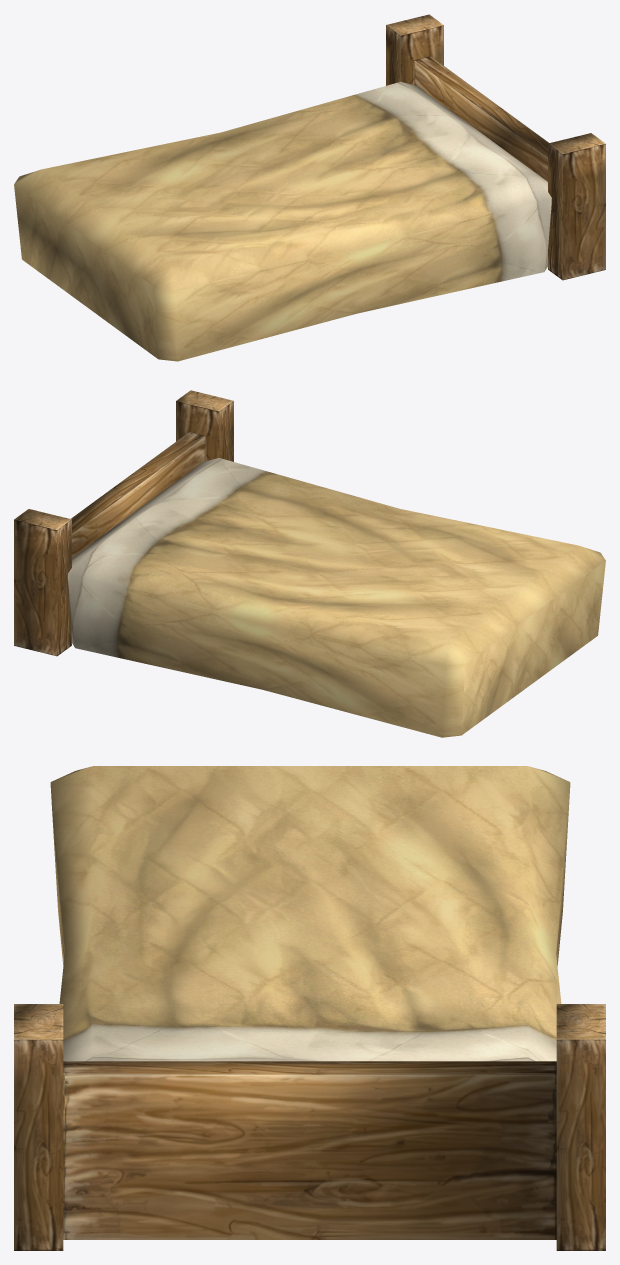
File: innbed.obj
3 views of the same model, one above another, from view 1: azimuth 30°, elevation 25°; view 2: azimuth 150°, elevation 25°; view 3: azimuth 270°, elevation 25° (orthographic). The views are drawn at different scales.
Parts seen in each view (by area): view 1: Geoset1, Geoset0, Geoset2; view 2: Geoset1, Geoset0, Geoset2; view 3: Geoset1, Geoset0, Geoset2.
Boxes of the visible parts, bbox=[...] form: Geoset1: bbox=[14, 81, 551, 361]; Geoset0: bbox=[386, 25, 605, 280]; Geoset2: bbox=[386, 14, 605, 153]; Geoset1: bbox=[68, 458, 605, 737]; Geoset0: bbox=[14, 401, 233, 656]; Geoset2: bbox=[14, 390, 233, 529]; Geoset1: bbox=[50, 766, 570, 1061]; Geoset0: bbox=[14, 1039, 605, 1250]; Geoset2: bbox=[14, 1004, 605, 1039].
Size of the model in its own units: 4.78 by 1.33 by 3.38.
3 materials, 3 textured.
